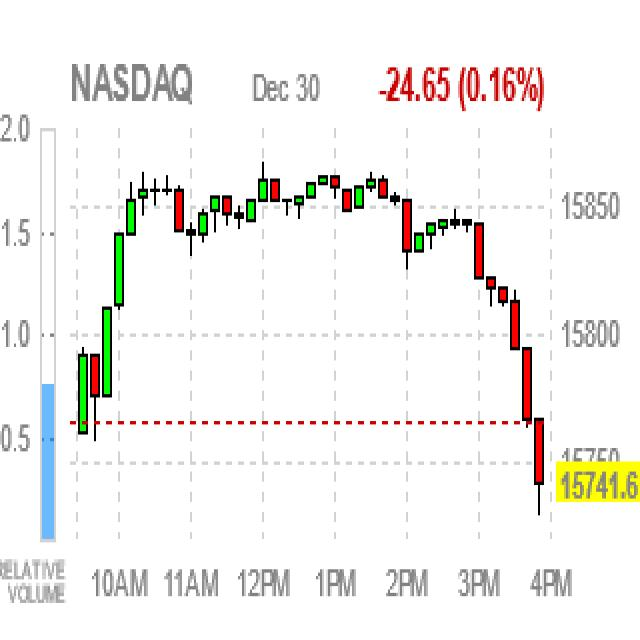Rounding-Top: (72, 150, 577, 451)
